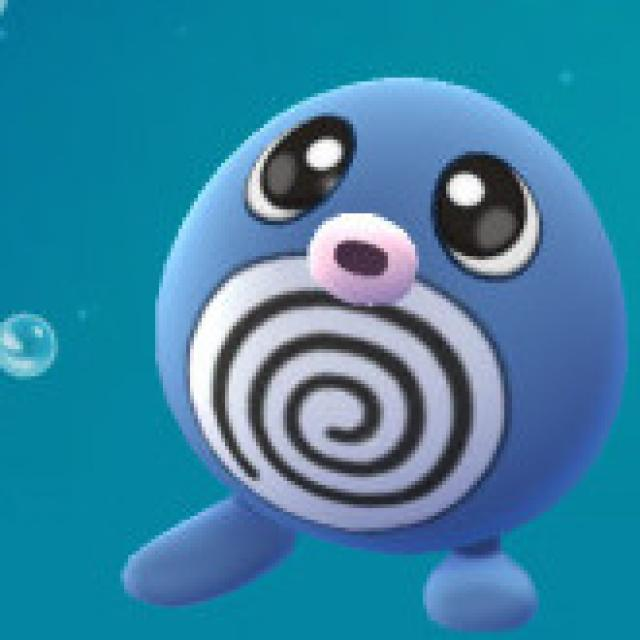Poliwag: (188, 71, 600, 558)
